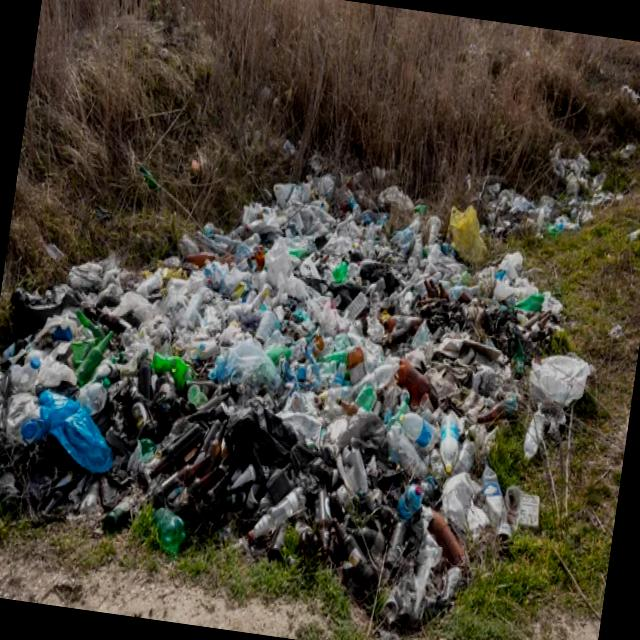garbage: (37, 106, 608, 624)
